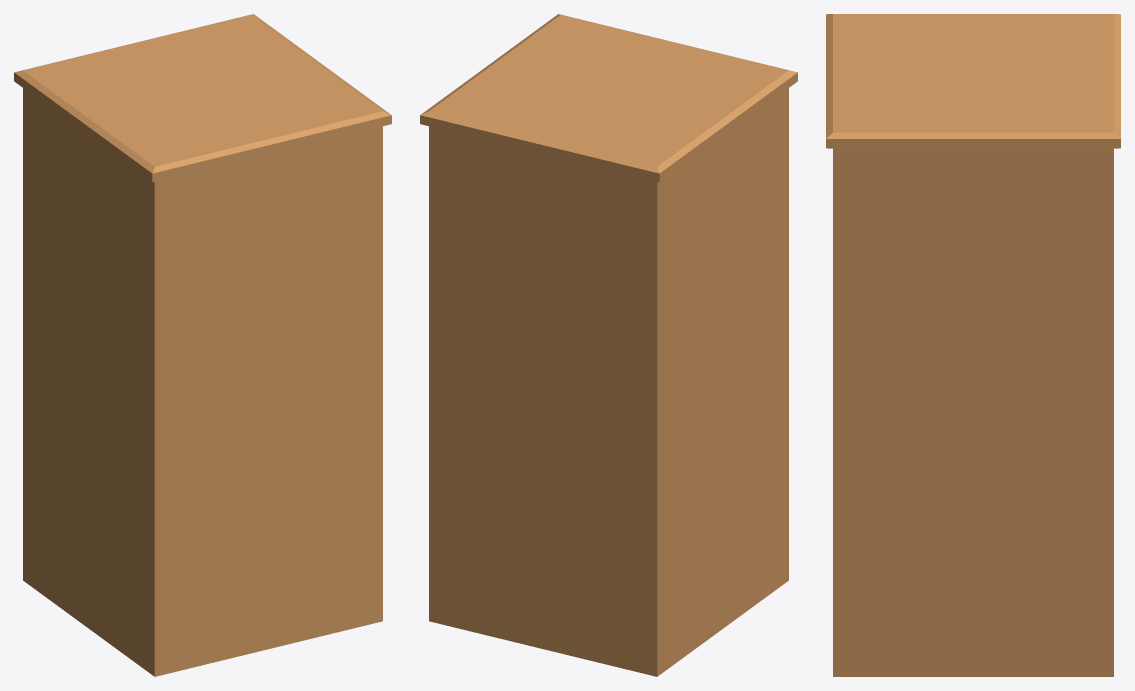
Rendered from Sand 1.fbx.
3 views of the same model, side by side, from view 1: azimuth 30°, elevation 25°; view 2: azimuth 150°, elevation 25°; view 3: azimuth 270°, elevation 25° (orthographic). The views are drawn at different scales.
Visible parts, largest first — view 1: Sand_1; view 2: Sand_1; view 3: Sand_1.
Boxes of the visible parts, x1,y1,x2,y2 form: Sand_1: (14,14,391,676); Sand_1: (420,14,797,676); Sand_1: (826,14,1120,676).
Size of the model in its own units: 4.2 by 8.55 by 4.2.
